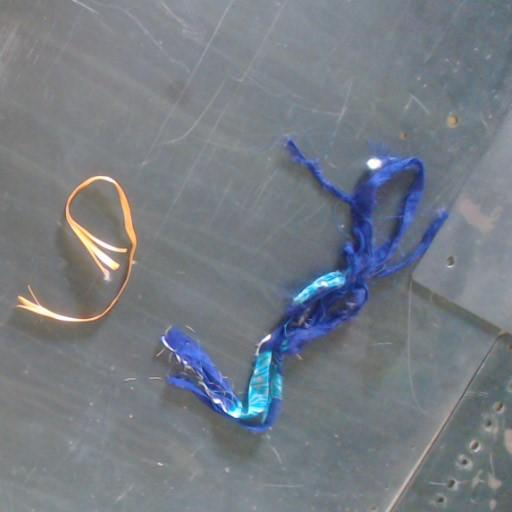cloth: (161, 159, 446, 430)
thread: (17, 176, 137, 322)
